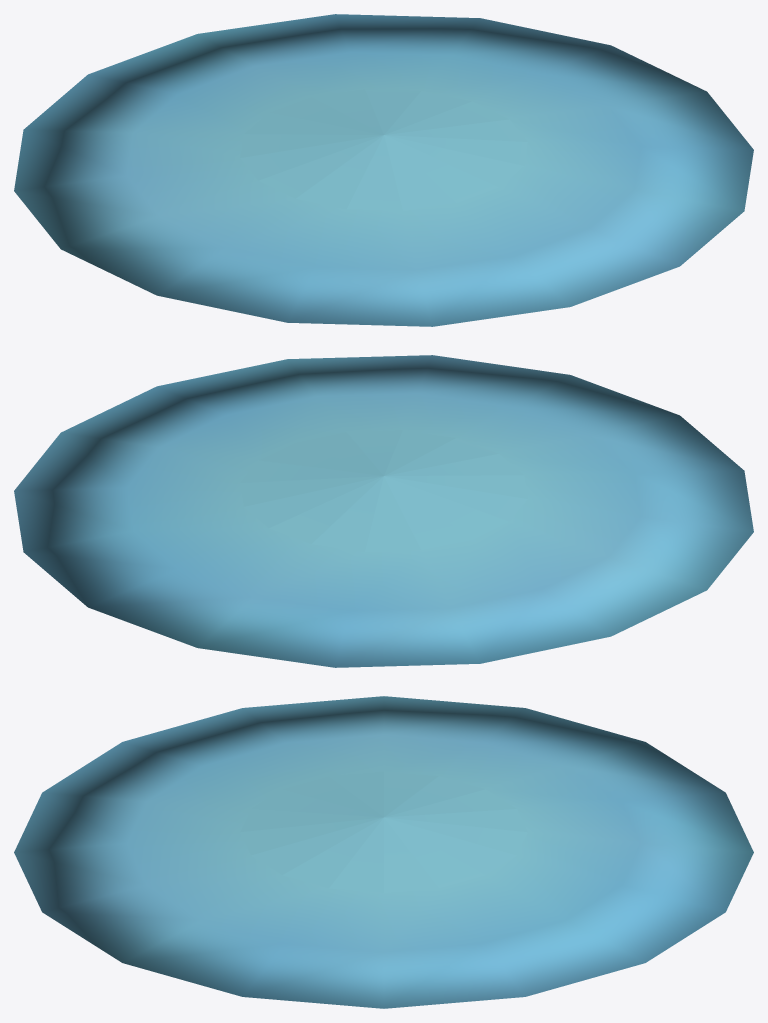
3 renders of one model, top to bottom at view 1: azimuth 30°, elevation 25°; view 2: azimuth 150°, elevation 25°; view 3: azimuth 270°, elevation 25°, orthographic.
Parts seen in each view (by area): view 1: starcloud188; view 2: starcloud188; view 3: starcloud188.
Boxes of the visible parts, x1,y1,x2,y2 form: starcloud188: (14,14,753,326); starcloud188: (14,355,753,667); starcloud188: (14,696,753,1008).
Bounding box in the file's own units: 0.5 × 0.0436 × 0.5.
